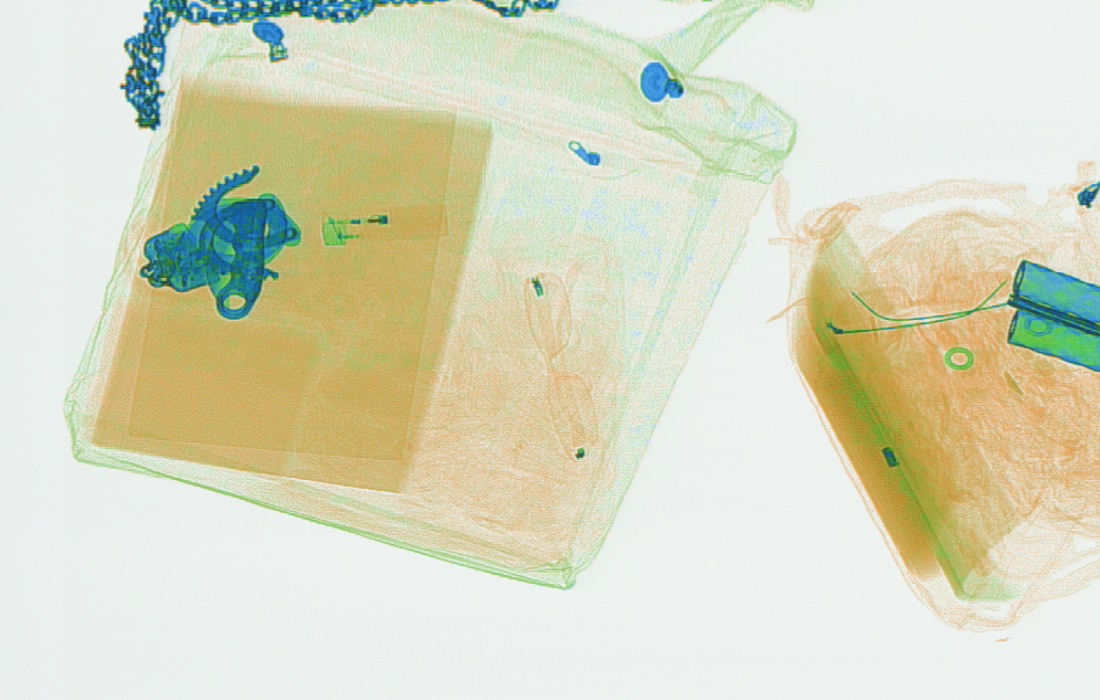handcuffs: (137, 163, 300, 292)
knife: (213, 197, 270, 321)
lighter: (320, 200, 449, 247)
